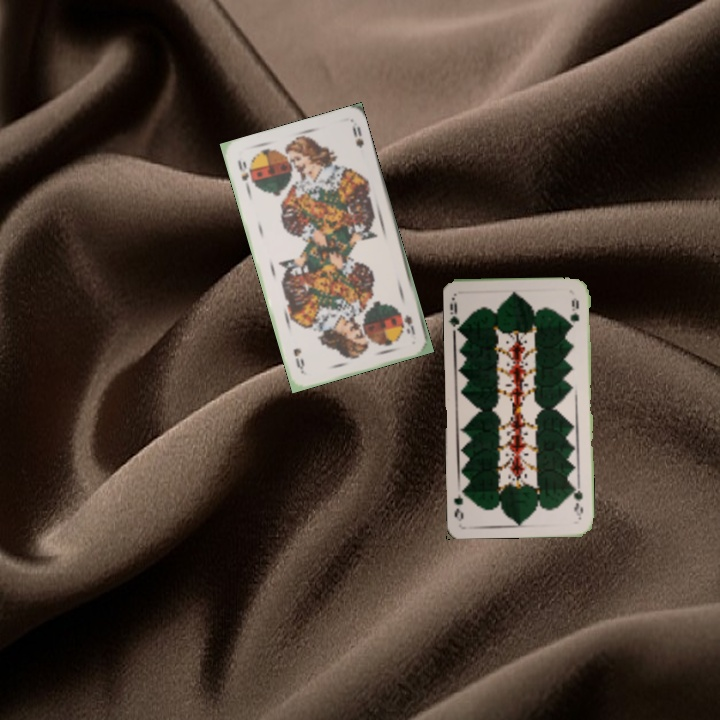G9: (446, 293, 466, 334), (570, 480, 585, 521)
SO: (234, 156, 253, 193), (400, 311, 418, 337)
